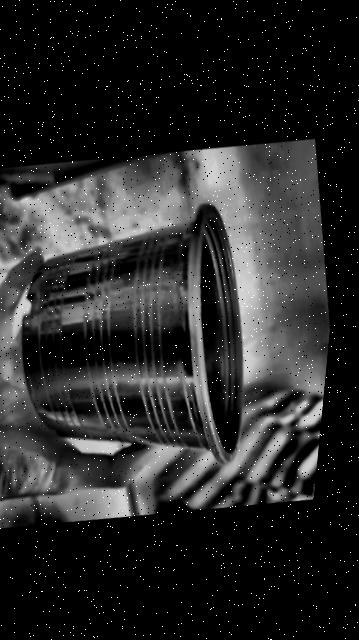pot: (18, 206, 239, 463)
